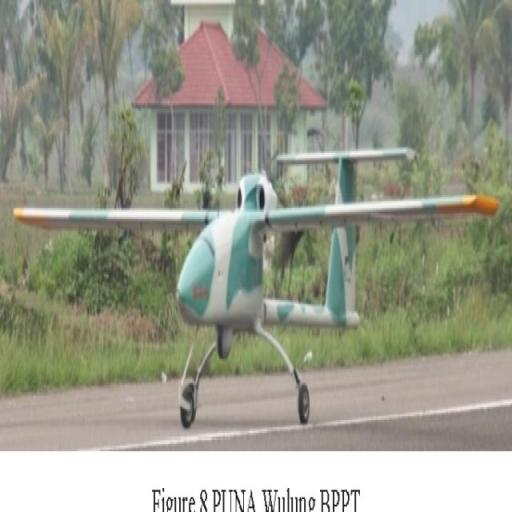uav: (4, 132, 506, 435)
